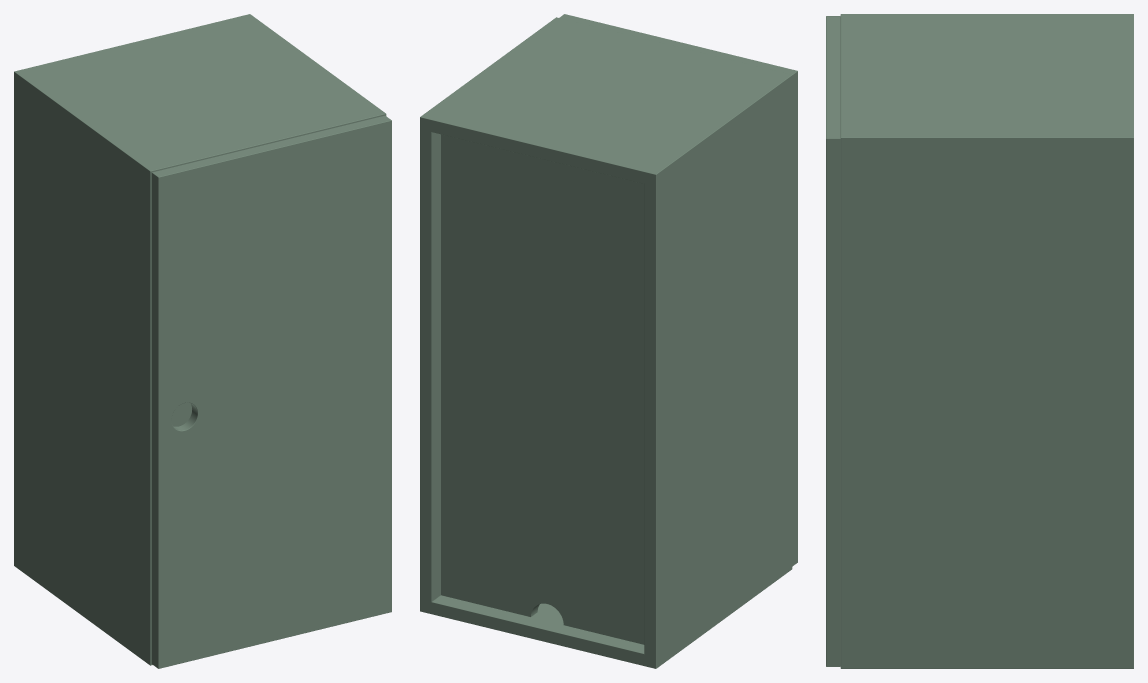
The model's file is MOD_1X2_D_B_IZQ_AP_VA.glb.
3 views of the same model, side by side, from view 1: azimuth 30°, elevation 25°; view 2: azimuth 150°, elevation 25°; view 3: azimuth 270°, elevation 25° (orthographic). The views are drawn at different scales.
Bounding box in the file's own units: 360 × 720 × 378.
